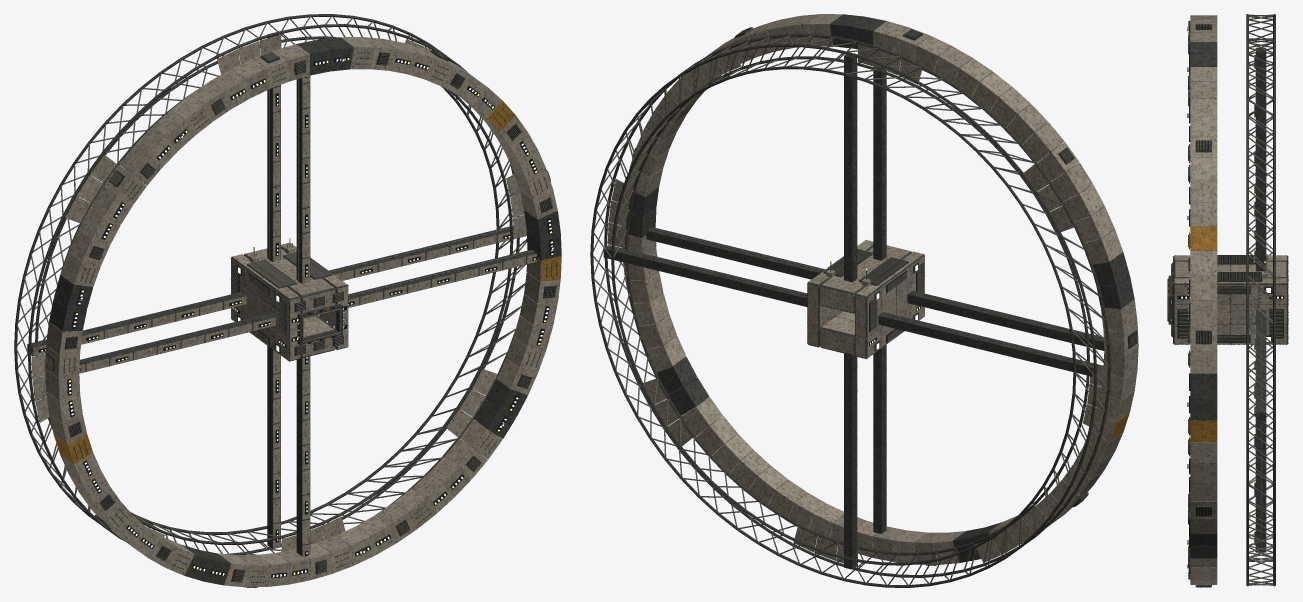
The model's file is wheel.glb.
3 renders of one model, left to right at view 1: azimuth 30°, elevation 25°; view 2: azimuth 150°, elevation 25°; view 3: azimuth 270°, elevation 25°, orthographic. The views are drawn at different scales.
Parts seen in each view (by area): view 1: static/dark-structure, static/cladding-armour-1, static/cladding-armour-2, static/machined-alloy, static/cladding-armour-3, static/cladding-armour-0, static/cladding-dark-structure, static/recess-black, static/cladding-service-ochre, static/work-flood; view 2: static/dark-structure, static/cladding-armour-1, static/machined-alloy, static/cladding-armour-2, static/cladding-armour-3, static/cladding-armour-0, static/cladding-dark-structure, static/recess-black; view 3: static/dark-structure, static/machined-alloy, static/cladding-armour-1, static/cladding-armour-2, static/recess-black, static/cladding-dark-structure, static/cladding-armour-0, static/cladding-armour-3, static/cladding-service-ochre, static/work-flood.
Boxes of the visible parts, x1=… form: static/dark-structure: x1=14, y1=14, x2=557, y2=587; static/cladding-armour-1: x1=32, y1=37, x2=559, y2=587; static/cladding-armour-2: x1=35, y1=39, x2=560, y2=587; static/machined-alloy: x1=15, y1=15, x2=557, y2=587; static/cladding-armour-3: x1=31, y1=47, x2=557, y2=587; static/cladding-armour-0: x1=45, y1=34, x2=545, y2=586; static/cladding-dark-structure: x1=49, y1=37, x2=561, y2=585; static/recess-black: x1=38, y1=50, x2=555, y2=587; static/cladding-service-ochre: x1=54, y1=101, x2=561, y2=464; static/work-flood: x1=41, y1=58, x2=553, y2=576; static/dark-structure: x1=590, y1=27, x2=1137, y2=587; static/cladding-armour-1: x1=608, y1=14, x2=1138, y2=560; static/machined-alloy: x1=592, y1=27, x2=1137, y2=585; static/cladding-armour-2: x1=634, y1=20, x2=1138, y2=566; static/cladding-armour-3: x1=627, y1=24, x2=1129, y2=564; static/cladding-armour-0: x1=607, y1=14, x2=1138, y2=564; static/cladding-dark-structure: x1=622, y1=14, x2=1134, y2=562; static/recess-black: x1=735, y1=27, x2=1137, y2=565; static/dark-structure: x1=1168, y1=14, x2=1288, y2=586; static/machined-alloy: x1=1167, y1=14, x2=1286, y2=587; static/cladding-armour-1: x1=1173, y1=15, x2=1286, y2=584; static/cladding-armour-2: x1=1173, y1=15, x2=1286, y2=583; static/recess-black: x1=1168, y1=21, x2=1283, y2=587; static/cladding-dark-structure: x1=1173, y1=42, x2=1288, y2=558; static/cladding-armour-0: x1=1173, y1=16, x2=1288, y2=584; static/cladding-armour-3: x1=1173, y1=82, x2=1286, y2=583; static/cladding-service-ochre: x1=1190, y1=226, x2=1216, y2=442; static/work-flood: x1=1171, y1=27, x2=1278, y2=571.
Bounding box in the file's own units: 1703 × 1698 × 361.
10 materials, 8 textured.
